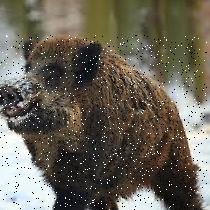Hog: (0, 35, 207, 210)
